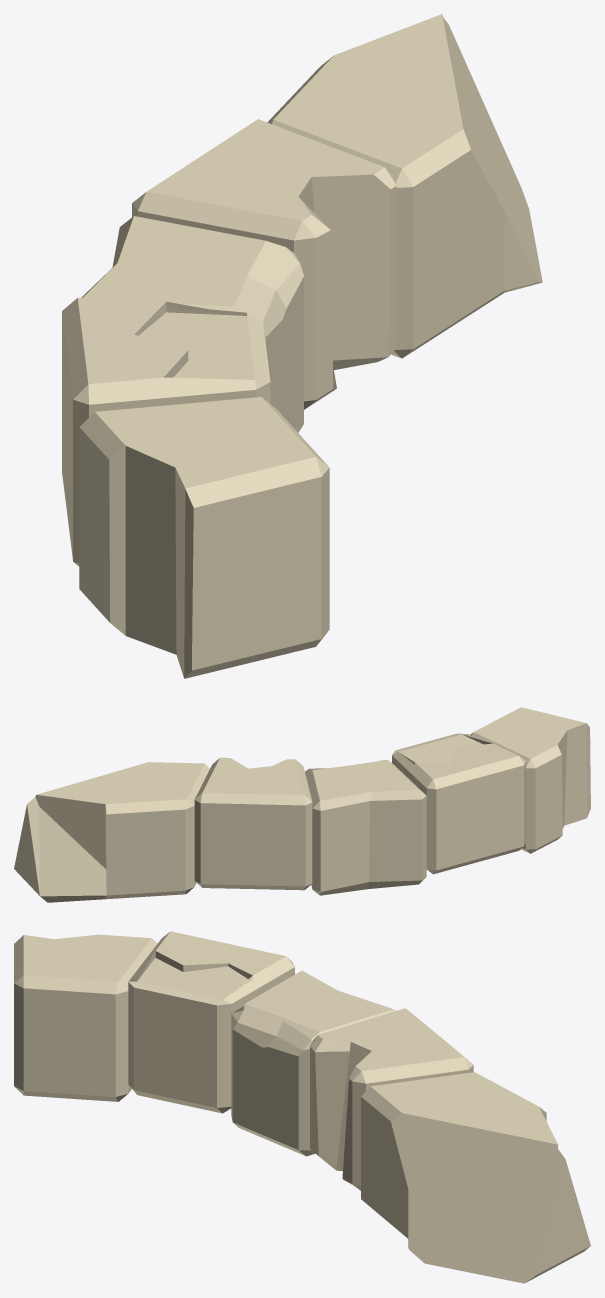
Rendered from Destroy_Arch_0.fbx.
3 renders of one model, top to bottom at view 1: azimuth 30°, elevation 25°; view 2: azimuth 150°, elevation 25°; view 3: azimuth 270°, elevation 25°, orthographic. The views are drawn at different scales.
Parts seen in each view (by area): view 1: Destroy_Arch_0; view 2: Destroy_Arch_0; view 3: Destroy_Arch_0.
Boxes of the visible parts, bbox=[...] form: Destroy_Arch_0: bbox=[62, 14, 542, 678]; Destroy_Arch_0: bbox=[14, 707, 590, 902]; Destroy_Arch_0: bbox=[14, 931, 590, 1283].
Bounding box in the file's own units: 623 × 162 × 652.
